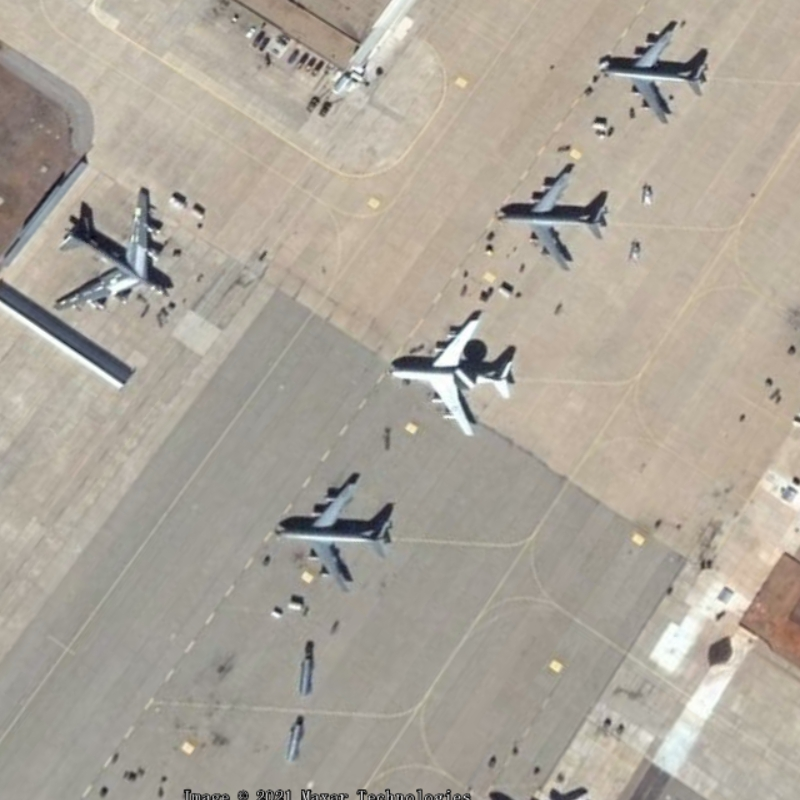A14: (271, 470, 404, 594), (491, 161, 616, 275), (596, 17, 718, 130)
A7: (379, 310, 521, 444)
A8: (49, 182, 174, 321)
